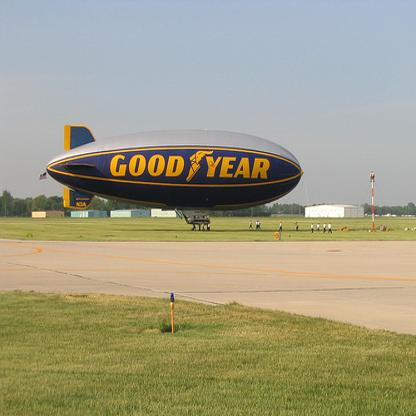Airship: (46, 120, 303, 232)
